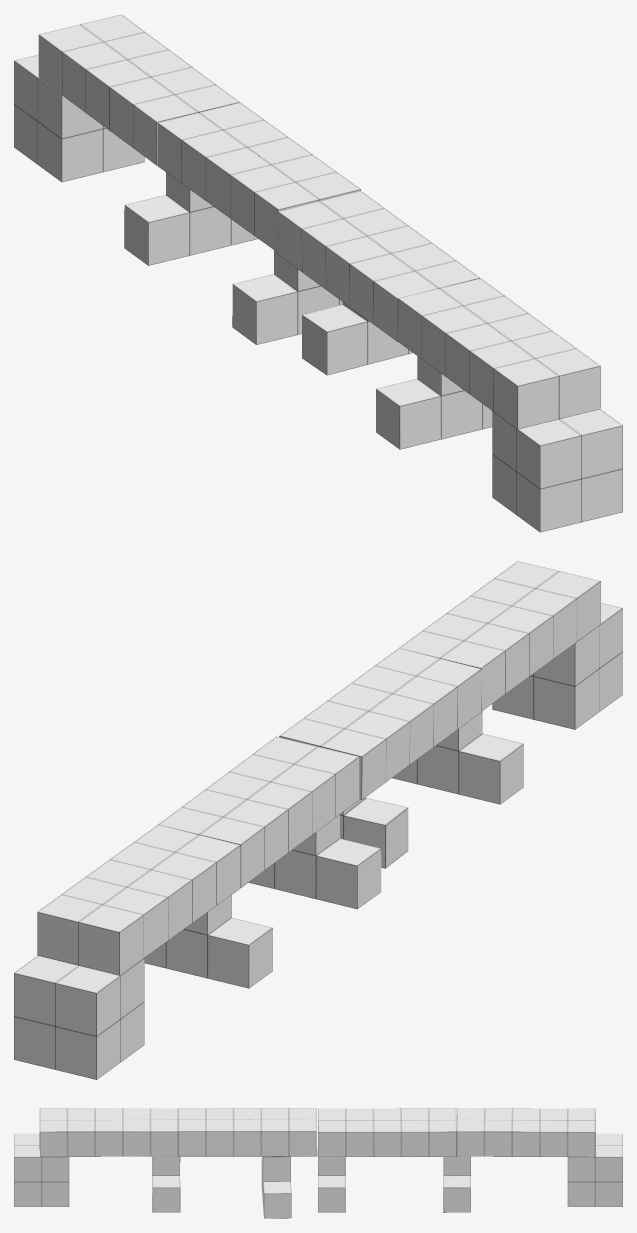
3 views of the same model, one above another, from view 1: azimuth 30°, elevation 25°; view 2: azimuth 150°, elevation 25°; view 3: azimuth 270°, elevation 25° (orthographic). The views are drawn at different scales.
Parts seen in each view (by area): view 1: GridPlank_0:1, GridPlank_0:3, GridPlank_0, GridPlank_0:2, Plane/BasicEnvironment/StartCube-1, Plane/BasicEnvironment/StartCube-2, GridTShape_0:2, GridTShape_0:3, GridTShape_0, GridTShape_0:1; view 2: GridPlank_0, GridPlank_0:2, GridPlank_0:3, GridPlank_0:1, Plane/BasicEnvironment/StartCube-2, Plane/BasicEnvironment/StartCube-1, GridTShape_0, GridTShape_0:2, GridTShape_0:3, GridTShape_0:1; view 3: GridPlank_0:1, GridPlank_0, GridPlank_0:2, GridPlank_0:3, Plane/BasicEnvironment/StartCube-2, Plane/BasicEnvironment/StartCube-1, GridTShape_0:1, GridTShape_0:3, GridTShape_0, GridTShape_0:2.
Part boxes in pixels (x1=…): GridPlank_0:1: x1=398, y1=278, x2=600, y2=429; GridPlank_0:3: x1=157, y1=102, x2=360, y2=252; GridPlank_0: x1=38, y1=14, x2=239, y2=165; GridPlank_0:2: x1=278, y1=190, x2=479, y2=341; Plane/BasicEnvironment/StartCube-1: x1=492, y1=409, x2=622, y2=532; Plane/BasicEnvironment/StartCube-2: x1=14, y1=54, x2=144, y2=182; GridTShape_0:2: x1=124, y1=172, x2=258, y2=265; GridTShape_0:3: x1=376, y1=356, x2=492, y2=449; GridTShape_0: x1=232, y1=250, x2=342, y2=344; GridTShape_0:1: x1=302, y1=302, x2=412, y2=375; GridPlank_0: x1=37, y1=824, x2=240, y2=975; GridPlank_0:2: x1=279, y1=648, x2=481, y2=799; GridPlank_0:3: x1=158, y1=736, x2=359, y2=887; GridPlank_0:1: x1=399, y1=561, x2=600, y2=710; Plane/BasicEnvironment/StartCube-2: x1=14, y1=955, x2=144, y2=1079; Plane/BasicEnvironment/StartCube-1: x1=492, y1=603, x2=622, y2=729; GridTShape_0: x1=249, y1=815, x2=381, y2=909; GridTShape_0:2: x1=144, y1=895, x2=272, y2=988; GridTShape_0:3: x1=392, y1=711, x2=523, y2=804; GridTShape_0:1: x1=340, y1=797, x2=408, y2=868; GridPlank_0:1: x1=39, y1=1108, x2=178, y2=1156; GridPlank_0: x1=456, y1=1108, x2=595, y2=1157; GridPlank_0:2: x1=178, y1=1108, x2=316, y2=1156; GridPlank_0:3: x1=318, y1=1108, x2=456, y2=1156; Plane/BasicEnvironment/StartCube-2: x1=567, y1=1133, x2=622, y2=1206; Plane/BasicEnvironment/StartCube-1: x1=14, y1=1133, x2=69, y2=1206; GridTShape_0:1: x1=261, y1=1156, x2=291, y2=1218; GridTShape_0:3: x1=152, y1=1156, x2=180, y2=1212; GridTShape_0: x1=317, y1=1147, x2=345, y2=1212; GridTShape_0:2: x1=443, y1=1156, x2=470, y2=1212.
Size of the model in its own units: 0.3527 by 0.3013 by 2.2.
